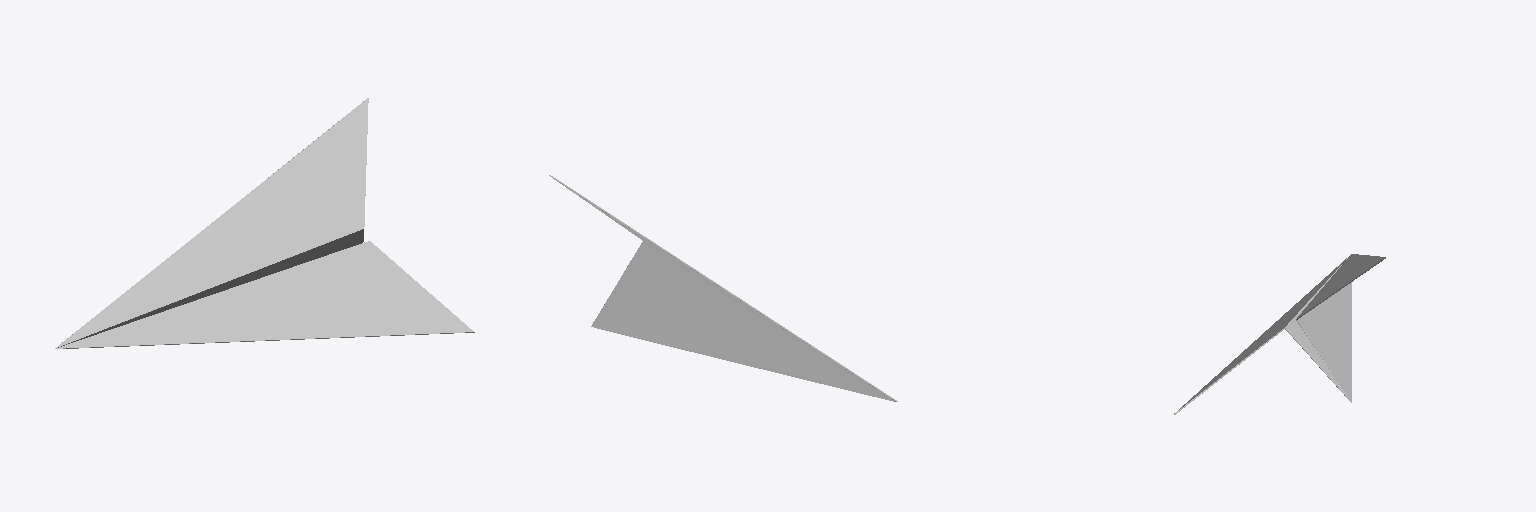
The model's file is aviao.obj.
The picture shows the model from 3 angles: view 1: azimuth 30°, elevation 25°; view 2: azimuth 150°, elevation 25°; view 3: azimuth 270°, elevation 25°; orthographic projection.
Parts seen in each view (by area): view 1: Paper_Fly; view 2: Paper_Fly; view 3: Paper_Fly.
Boxes of the visible parts, x1,y1,x2,y2 form: Paper_Fly: [55, 98, 474, 348]; Paper_Fly: [549, 175, 897, 401]; Paper_Fly: [1174, 254, 1385, 414].
Size of the model in its own units: 0.3053 by 0.1402 by 0.1696.